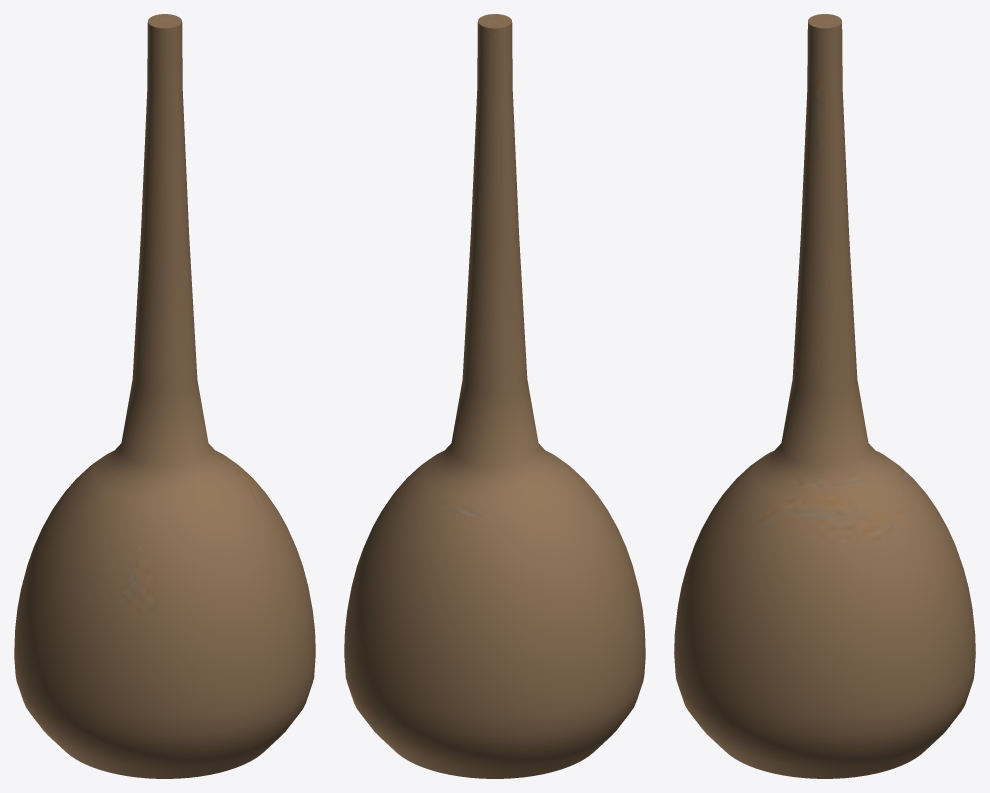
File: SM_lamp.glb
3 renders of one model, left to right at view 1: azimuth 30°, elevation 25°; view 2: azimuth 150°, elevation 25°; view 3: azimuth 270°, elevation 25°, orthographic.
Parts seen in each view (by area): view 1: SM_lamp; view 2: SM_lamp; view 3: SM_lamp.
Boxes of the visible parts, box(x1,y1,x2,y2) form: SM_lamp: box(14, 14, 315, 778); SM_lamp: box(344, 14, 645, 778); SM_lamp: box(674, 14, 975, 778).
Size of the model in its own units: 0.5135 by 1.34 by 0.5135.
1 material, 1 textured.
